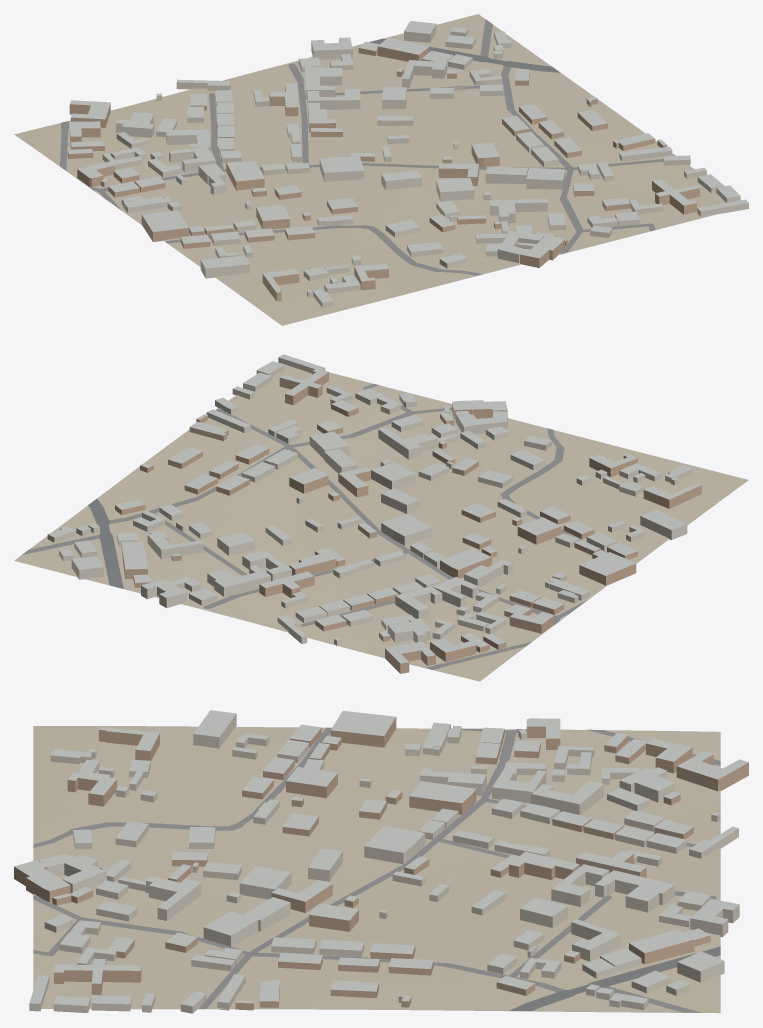
The model's file is bolak_1_7.glb.
3 views of the same model, one above another, from view 1: azimuth 30°, elevation 25°; view 2: azimuth 150°, elevation 25°; view 3: azimuth 270°, elevation 25° (orthographic). The views are drawn at different scales.
Parts seen in each view (by area): view 1: Yer_Tuproq-col, Tom_Shifer, Devor_Suvoq-col, Devor_Gisht-col, Yol_Mahalla-col, Yol_Asfalt-col; view 2: Yer_Tuproq-col, Tom_Shifer, Devor_Suvoq-col, Devor_Gisht-col, Yol_Mahalla-col, Yol_Asfalt-col; view 3: Yer_Tuproq-col, Tom_Shifer, Devor_Suvoq-col, Devor_Gisht-col, Yol_Mahalla-col, Yol_Asfalt-col.
Boxes of the visible parts, box(x1,y1,x2,y2) form: Yer_Tuproq-col: box(14, 14, 725, 325); Tom_Shifer: box(67, 21, 748, 302); Devor_Suvoq-col: box(100, 24, 748, 307); Devor_Gisht-col: box(67, 46, 699, 301); Yol_Mahalla-col: box(60, 19, 663, 275); Yol_Asfalt-col: box(369, 38, 560, 72); Yer_Tuproq-col: box(14, 363, 748, 681); Tom_Shifer: box(48, 354, 701, 663); Devor_Suvoq-col: box(47, 357, 692, 645); Devor_Gisht-col: box(115, 371, 701, 673); Yol_Mahalla-col: box(21, 384, 607, 669); Yol_Asfalt-col: box(88, 498, 123, 588); Yer_Tuproq-col: box(33, 726, 720, 1013); Tom_Shifer: box(14, 710, 748, 1006); Devor_Suvoq-col: box(29, 714, 739, 1013); Devor_Gisht-col: box(14, 717, 748, 1010); Yol_Mahalla-col: box(33, 727, 720, 1012); Yol_Asfalt-col: box(509, 946, 720, 1011).
Size of what is drawn, in the model's own units: 412 by 16.05 by 428.
